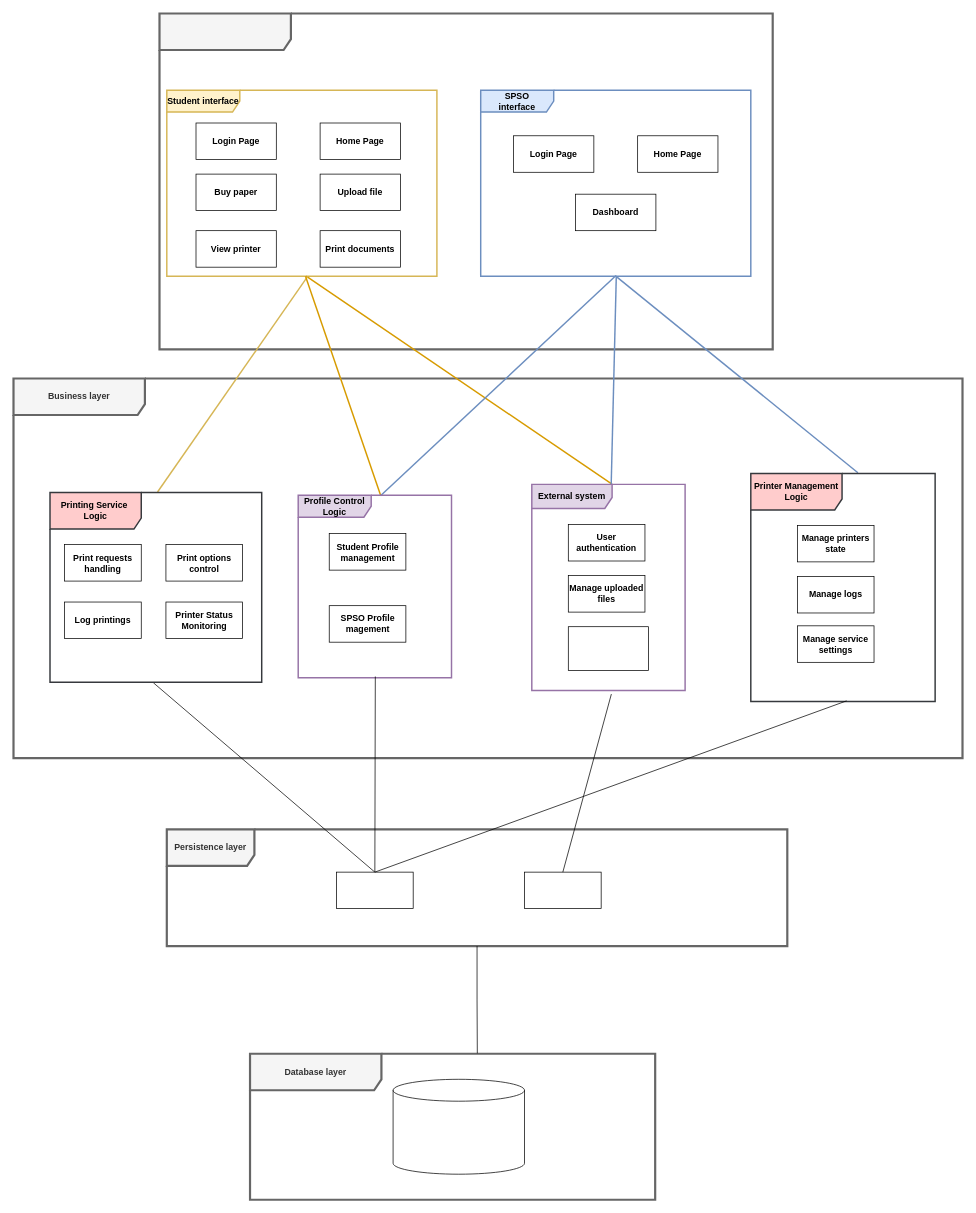
This 976x1213 diagram has some shape labels left out. Here are the shapes that lost their labels. From the top down, the centre of each, then its label:
(465,181): Presentation layer
(608,648): Transaction management
(374,890): SPSS Central Services API
(562,890): External Services API
